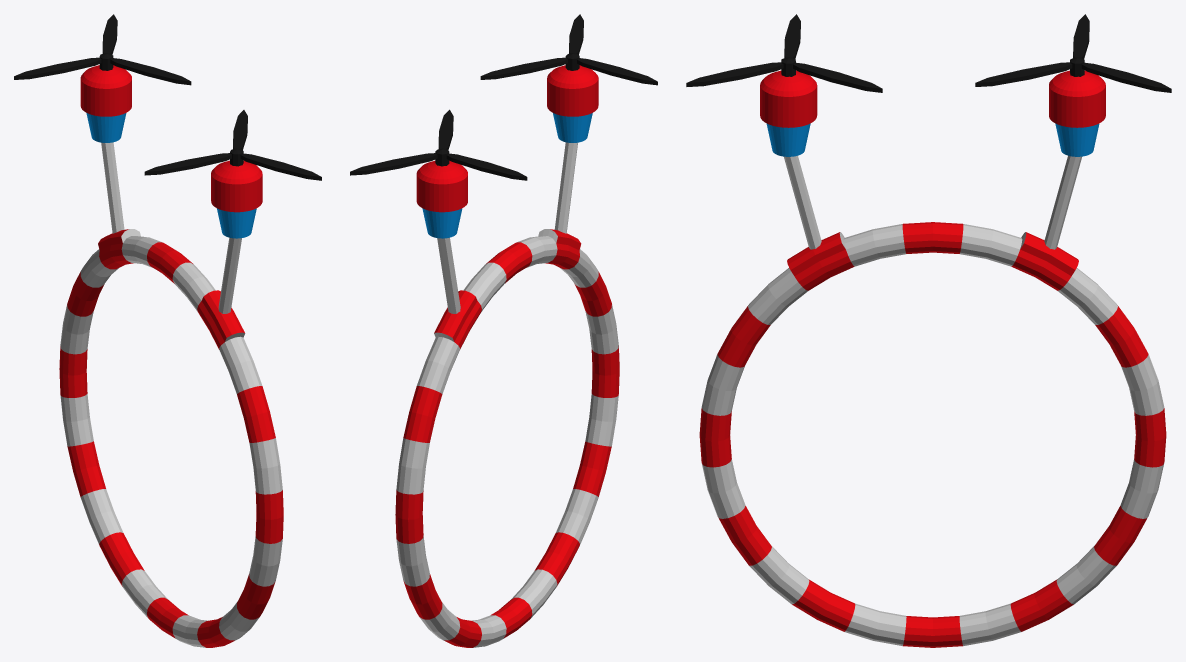
File: кольцо.fbx
3 views of the same model, side by side, from view 1: azimuth 30°, elevation 25°; view 2: azimuth 150°, elevation 25°; view 3: azimuth 270°, elevation 25° (orthographic). The views are drawn at different scales.
Parts seen in each view (by area): view 1: Цилиндр, Цилиндр.001, Цилиндр.003; view 2: Цилиндр, Цилиндр.001, Цилиндр.003; view 3: Цилиндр, Цилиндр.001, Цилиндр.003.
Part boxes in pixels (box(x1,y1,x2,y2)): Цилиндр: box(59, 65, 283, 647); Цилиндр.001: box(14, 14, 191, 85); Цилиндр.003: box(144, 110, 321, 180); Цилиндр: box(395, 65, 619, 647); Цилиндр.001: box(350, 109, 527, 180); Цилиндр.003: box(480, 14, 657, 85); Цилиндр: box(699, 70, 1166, 647); Цилиндр.001: box(975, 14, 1171, 92); Цилиндр.003: box(686, 14, 882, 92).
Bounding box in the file's own units: 123 × 450 × 336.
